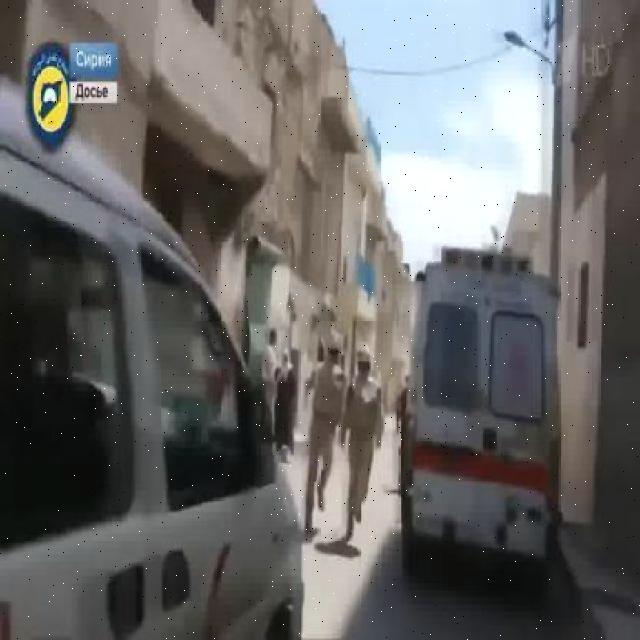Helmet: (322, 328, 344, 350), (354, 344, 372, 366)
